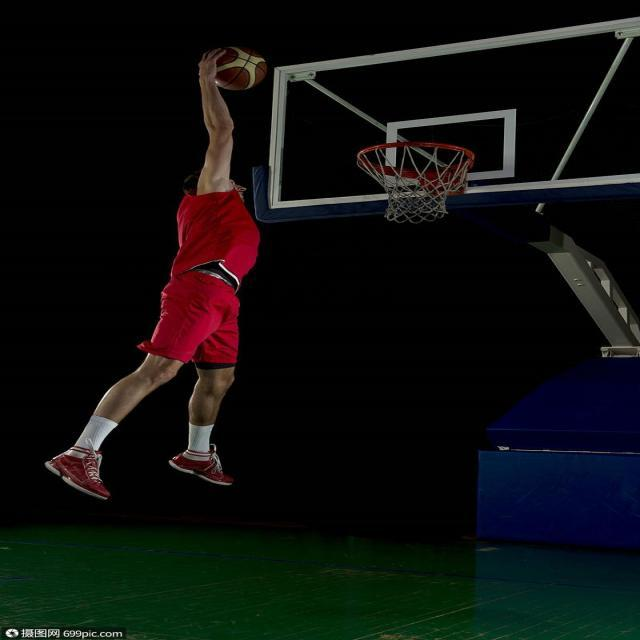rim: (202, 48, 268, 93)
